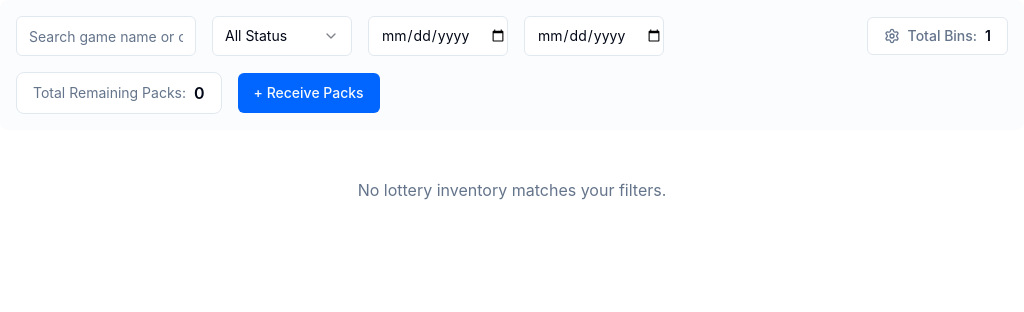
Test: LotteryTable: Return Button Feature (SEC-010: AUTHZ) › RETURN-BTN-003: [P0] should show disabled Return button for already RETURNED pack
The image size is (1024, 312).
Select RETURNED filter
What coordinates should you click on to do the following:
click the dropdown with test id "filter-status"
I would click on:
 (282, 36)
Its box is [212,16,352,56].
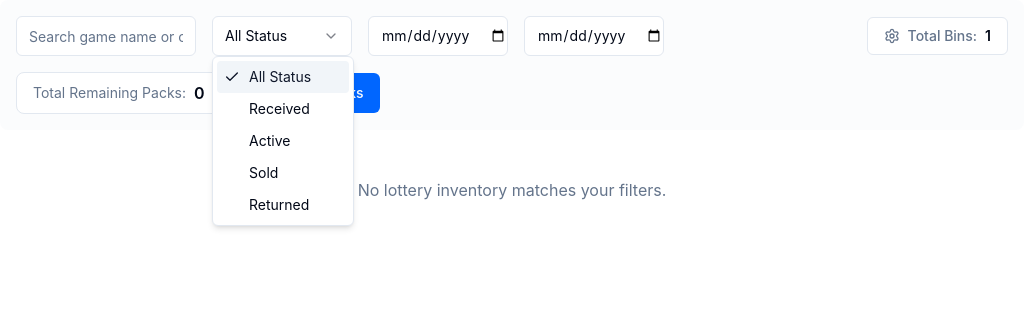
What coordinates should you click on to do the following:
click the option "Returned"
I would click on:
 (279, 204)
Its box is [249,196,309,213].
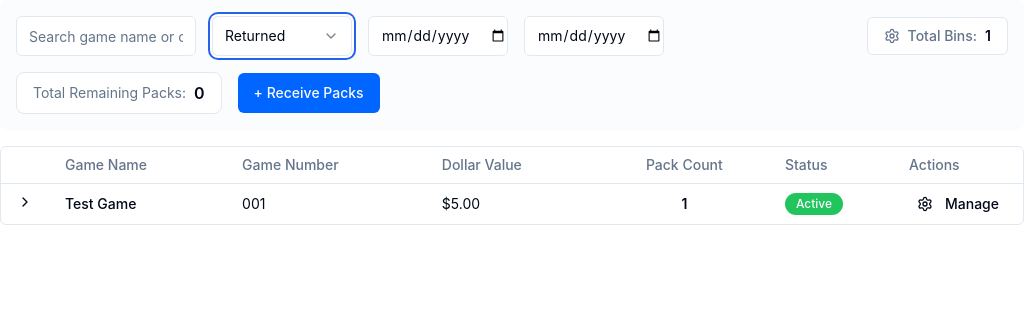
Expand the game row
What coordinates should you click on to do the following:
click the row with test id "lottery-table-row-game-1"
I would click on:
 (101, 203)
Its box is [1,183,1023,224].
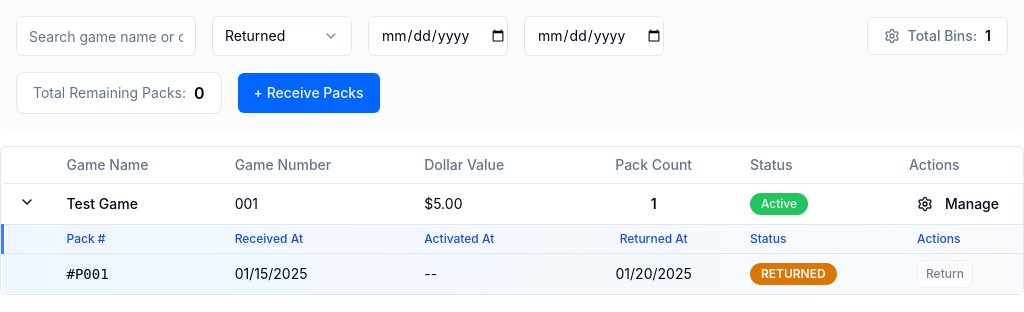
Expected: the button with test id "return-pack-btn-pack-already-returned" is disabled, [917,260,973,288]
